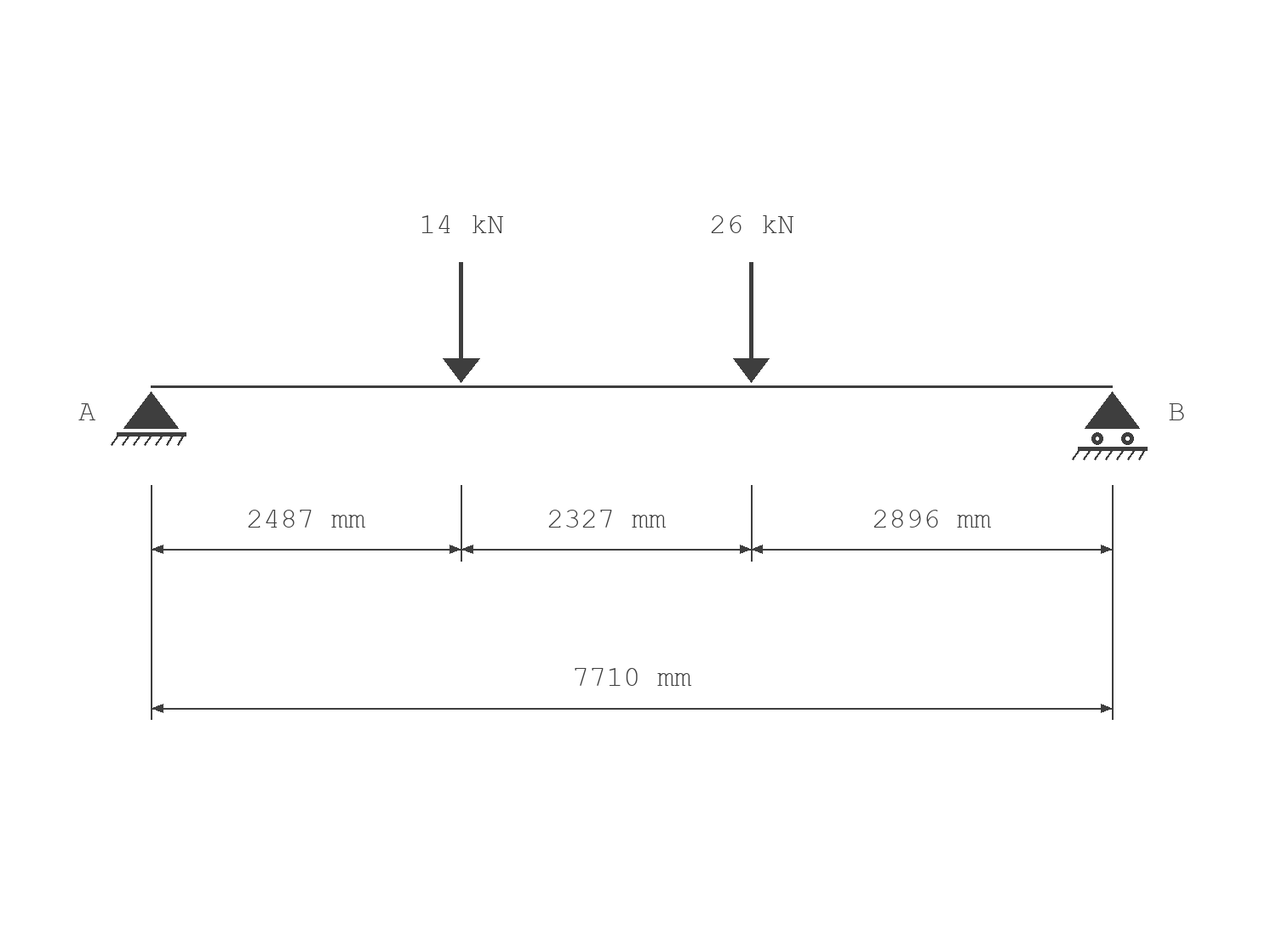pin_support: (111, 391, 186, 446)
point_load: (443, 262, 480, 383), (733, 262, 770, 383)
roller_support: (1072, 391, 1148, 460)
